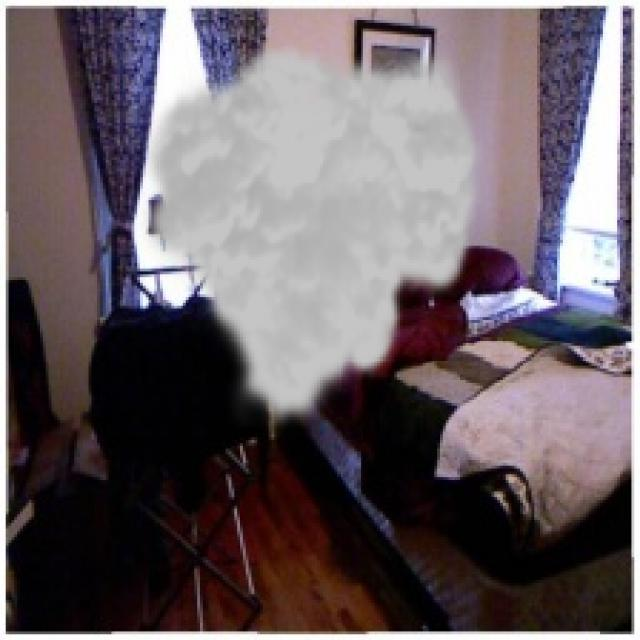Smoke: (134, 39, 489, 432)
